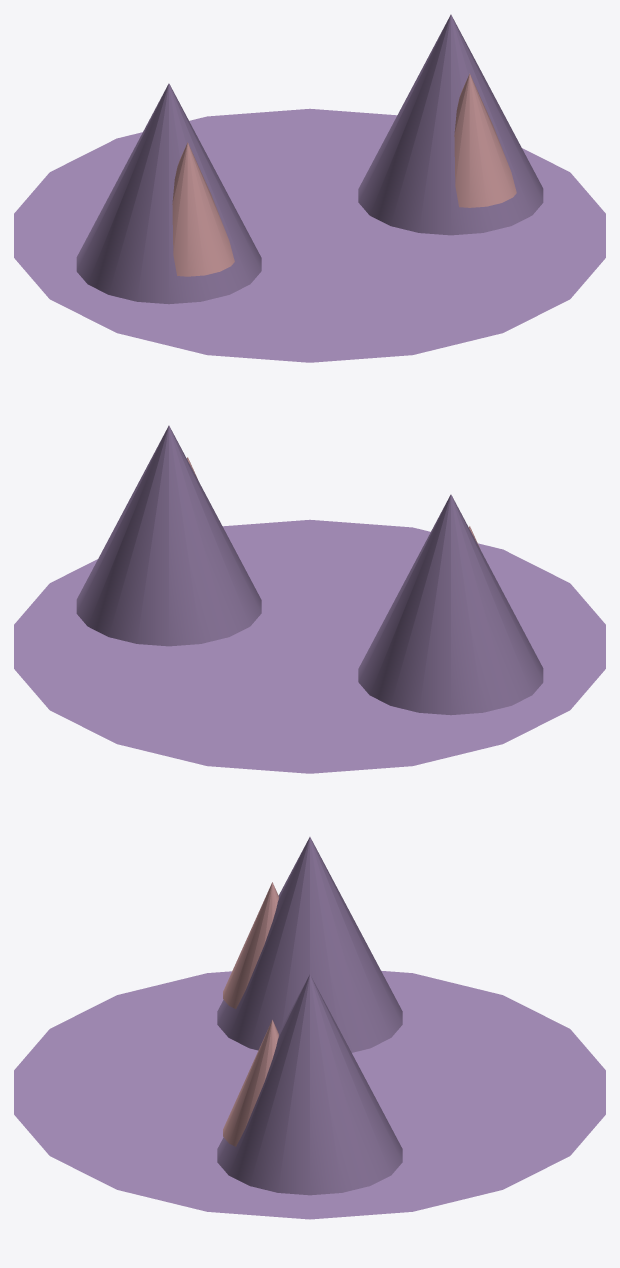
The model's file is cat-ears.glb.
The picture shows the model from 3 angles, top to bottom: view 1: azimuth 30°, elevation 25°; view 2: azimuth 150°, elevation 25°; view 3: azimuth 270°, elevation 25°; orthographic projection.
Parts seen in each view (by area): view 1: cat-ears; view 2: cat-ears; view 3: cat-ears.
Part boxes in pixels (x1,y1,x2,y2): cat-ears: [14, 14, 605, 362]; cat-ears: [14, 425, 605, 773]; cat-ears: [14, 837, 605, 1219].
Bounding box in the file's own units: 0.48 × 0.195 × 0.4727.
